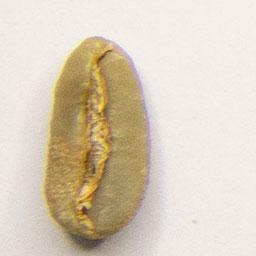longberry: (38, 31, 156, 242)
